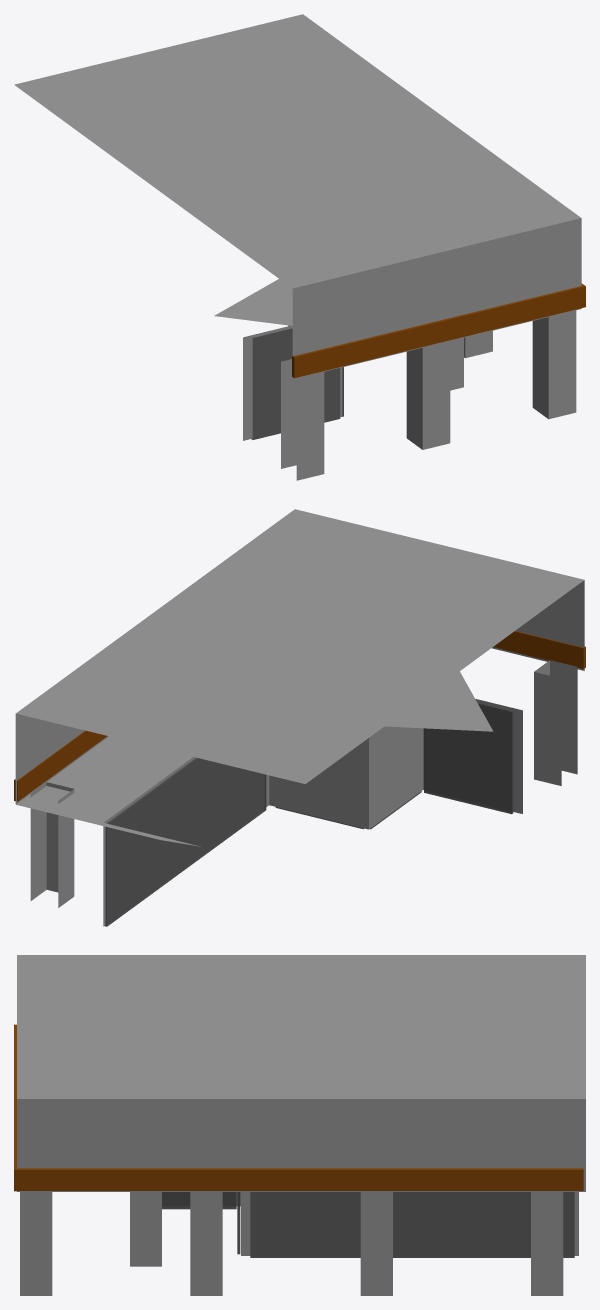
The model's file is edificio 1.fbx.
3 views of the same model, one above another, from view 1: azimuth 30°, elevation 25°; view 2: azimuth 150°, elevation 25°; view 3: azimuth 270°, elevation 25° (orthographic). The views are drawn at different scales.
Visible parts, largest first — view 1: Cube, Cartel, Ventanas y Puertas; view 2: Cube, Ventanas y Puertas, Cartel; view 3: Cube, Ventanas y Puertas, Cartel.
Boxes of the visible parts, <box> form: Cube: <box>14,14,581,480</box>; Cartel: <box>292,283,585,378</box>; Ventanas y Puertas: <box>251,328,343,439</box>; Cube: <box>15,509,584,926</box>; Ventanas y Puertas: <box>104,702,513,926</box>; Cartel: <box>14,631,585,801</box>; Cube: <box>17,955,585,1295</box>; Ventanas y Puertas: <box>162,1192,574,1257</box>; Cartel: <box>14,1024,583,1191</box>.
Bounding box in the file's own units: 1041 × 668 × 1729.
